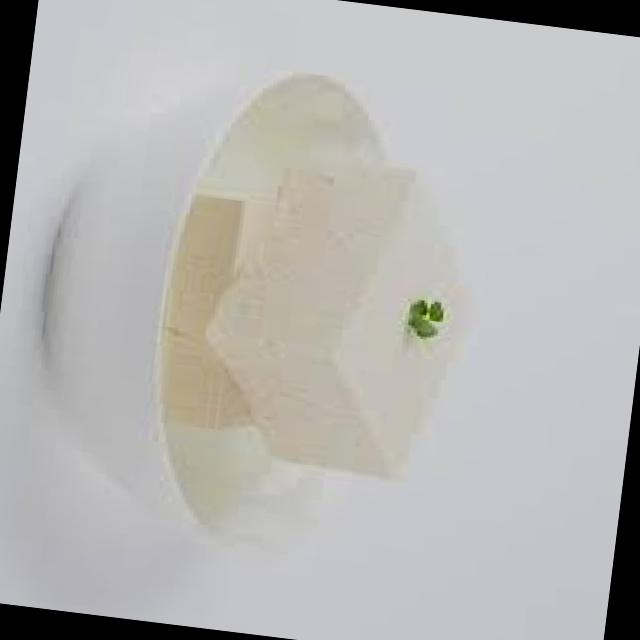tof: (150, 126, 543, 524)
